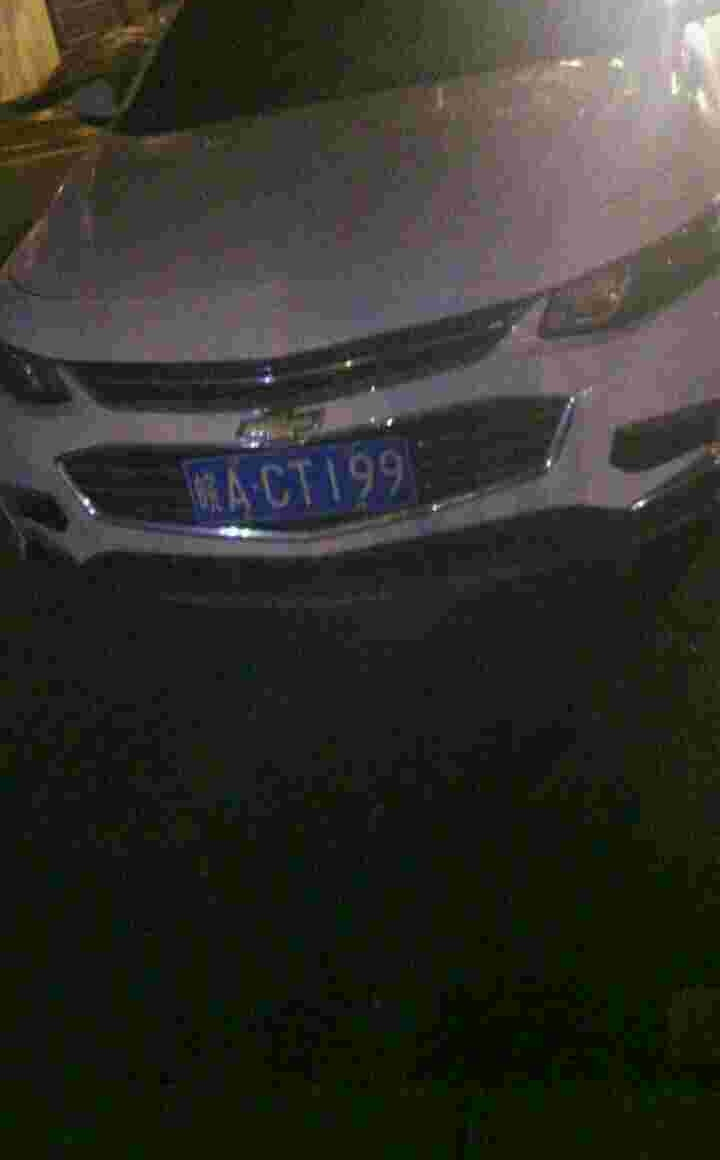license_plate: (187, 432, 411, 522)
